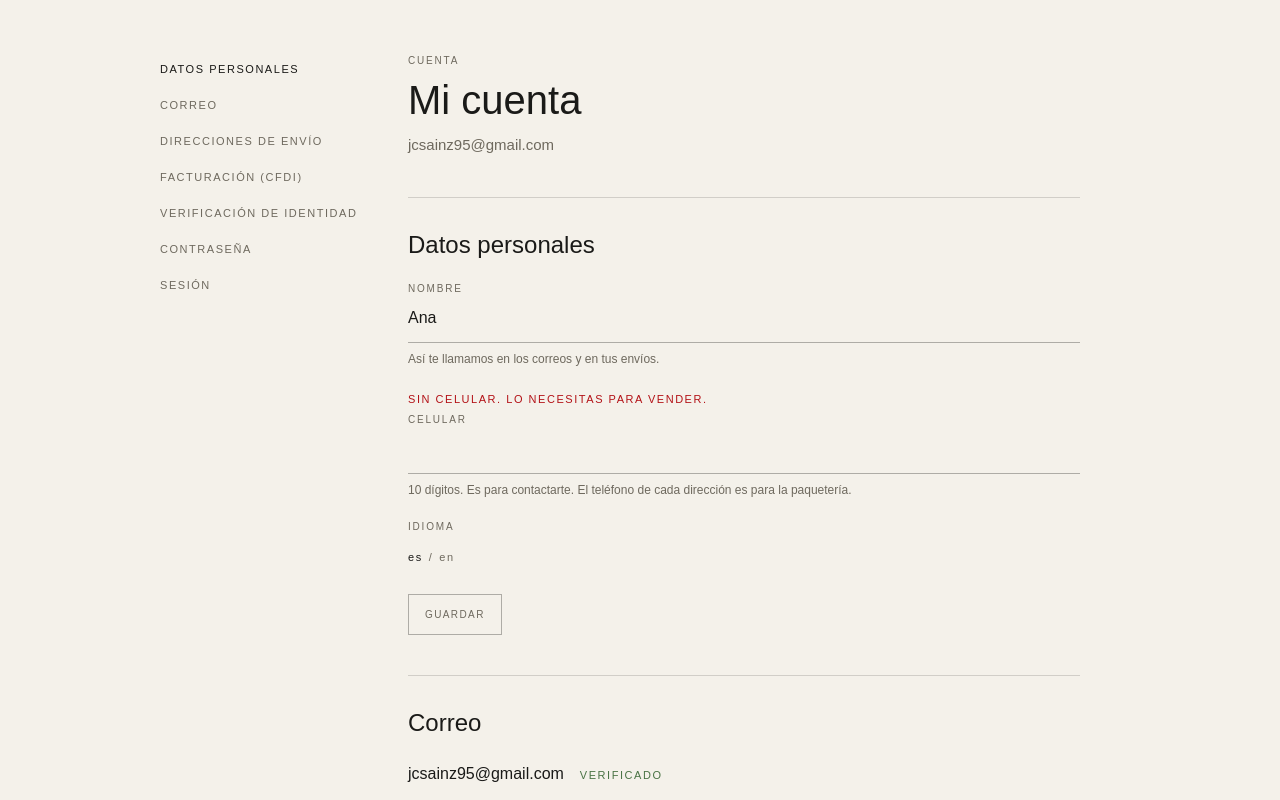
AccountView · un componente, dos puertas (DESIGN_SYSTEM §33.5/§33.6) › nameSource=user ⇒ sin aviso y «Guardar» deshabilitado hasta que haya cambios
Expected: the button "Guardar" is disabled, [408,594,502,634]
Replace the text in the field labelled "Nombre" with "Ana López" at (744, 318), box [408,306,1080,330]
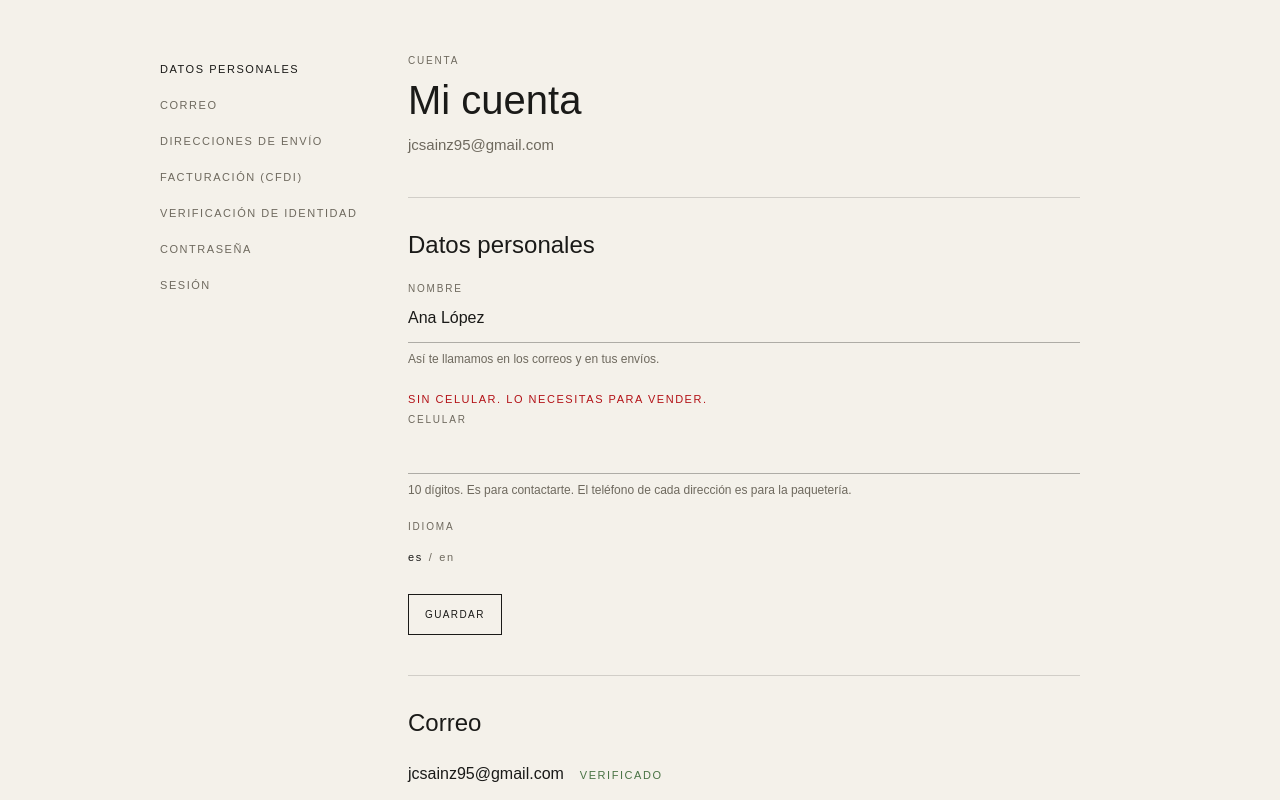
Expected: the button "Guardar" is enabled, [408,594,502,634]
